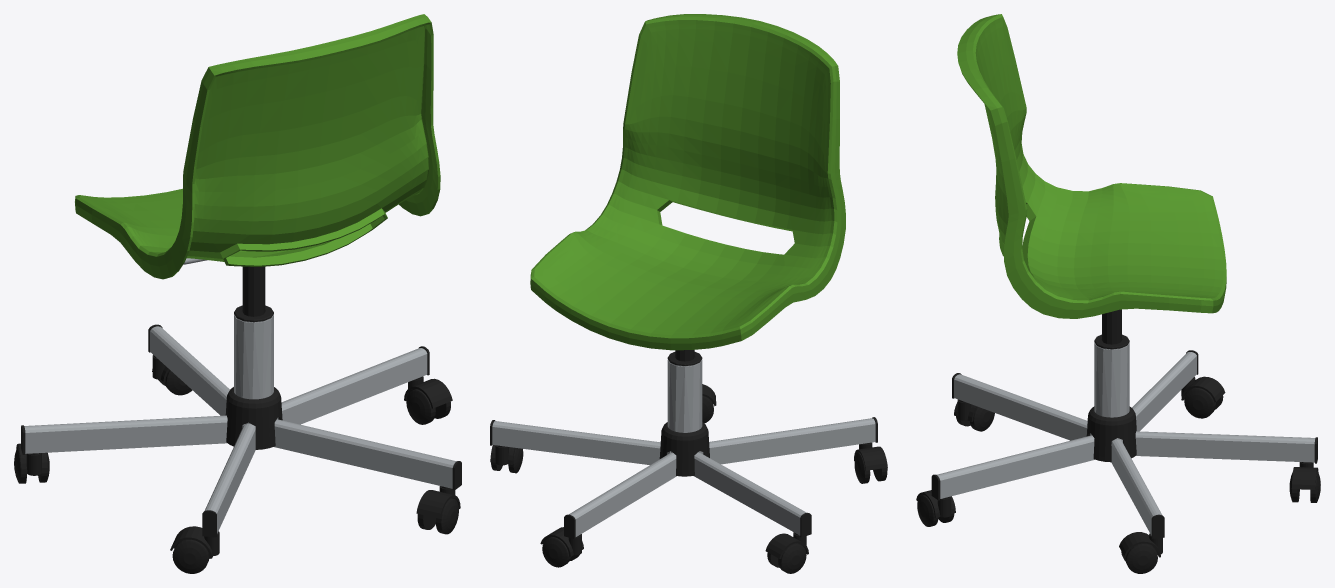
3 views of the same model, side by side, from view 1: azimuth 30°, elevation 25°; view 2: azimuth 150°, elevation 25°; view 3: azimuth 270°, elevation 25° (orthographic). The views are drawn at different scales.
Visible parts, largest first — view 1: Mesh2 Group2 SNILLE_IKEA1 Model, Mesh8 Group6 SNILLE_IKEA1 Model, Mesh7 Group5 SNILLE_IKEA1 Model, Mesh1 Group1 SNILLE_IKEA1 Model, Mesh3 Group3 SNILLE_IKEA1 Model, Mesh20 ROULETTE4 SNILLE_IKEA1 Model, Mesh12 ROULETTE2 SNILLE_IKEA1 Model, Mesh15 ROULETTE3 SNILLE_IKEA1 Model, Mesh16 ROULETTE3 SNILLE_IKEA1 Model, Mesh18 ROULETTE4 SNILLE_IKEA1 Model, Mesh9 ROULETTE1 SNILLE_IKEA1 Model, Mesh14 ROULETTE2 SNILLE_IKEA1 Model; view 2: Mesh2 Group2 SNILLE_IKEA1 Model, Mesh8 Group6 SNILLE_IKEA1 Model, Mesh7 Group5 SNILLE_IKEA1 Model, Mesh1 Group1 SNILLE_IKEA1 Model, Mesh23 ROULETTE5 SNILLE_IKEA1 Model, Mesh11 ROULETTE1 SNILLE_IKEA1 Model, Mesh18 ROULETTE4 SNILLE_IKEA1 Model, Mesh9 ROULETTE1 SNILLE_IKEA1 Model; view 3: Mesh2 Group2 SNILLE_IKEA1 Model, Mesh8 Group6 SNILLE_IKEA1 Model, Mesh7 Group5 SNILLE_IKEA1 Model, Mesh1 Group1 SNILLE_IKEA1 Model, Mesh3 Group3 SNILLE_IKEA1 Model, Mesh17 ROULETTE3 SNILLE_IKEA1 Model, Mesh10 ROULETTE1 SNILLE_IKEA1 Model, Mesh21 ROULETTE5 SNILLE_IKEA1 Model, Mesh15 ROULETTE3 SNILLE_IKEA1 Model, Mesh9 ROULETTE1 SNILLE_IKEA1 Model, Mesh12 ROULETTE2 SNILLE_IKEA1 Model.
Boxes of the visible parts, box(x1,y1,x2,y2) form: Mesh2 Group2 SNILLE_IKEA1 Model: box(75, 14, 440, 279); Mesh8 Group6 SNILLE_IKEA1 Model: box(21, 324, 461, 537); Mesh7 Group5 SNILLE_IKEA1 Model: box(234, 314, 273, 399); Mesh1 Group1 SNILLE_IKEA1 Model: box(225, 387, 282, 449); Mesh3 Group3 SNILLE_IKEA1 Model: box(234, 266, 273, 322); Mesh20 ROULETTE4 SNILLE_IKEA1 Model: box(172, 539, 209, 573); Mesh12 ROULETTE2 SNILLE_IKEA1 Model: box(416, 486, 460, 518); Mesh15 ROULETTE3 SNILLE_IKEA1 Model: box(404, 376, 452, 408); Mesh16 ROULETTE3 SNILLE_IKEA1 Model: box(406, 389, 435, 424); Mesh18 ROULETTE4 SNILLE_IKEA1 Model: box(170, 526, 219, 558); Mesh9 ROULETTE1 SNILLE_IKEA1 Model: box(16, 443, 47, 475); Mesh14 ROULETTE2 SNILLE_IKEA1 Model: box(435, 498, 458, 534); Mesh2 Group2 SNILLE_IKEA1 Model: box(530, 14, 845, 350); Mesh8 Group6 SNILLE_IKEA1 Model: box(490, 417, 877, 539); Mesh7 Group5 SNILLE_IKEA1 Model: box(667, 359, 702, 432); Mesh1 Group1 SNILLE_IKEA1 Model: box(659, 422, 709, 476); Mesh23 ROULETTE5 SNILLE_IKEA1 Model: box(542, 536, 570, 567); Mesh11 ROULETTE1 SNILLE_IKEA1 Model: box(778, 543, 806, 573); Mesh18 ROULETTE4 SNILLE_IKEA1 Model: box(854, 442, 887, 470); Mesh9 ROULETTE1 SNILLE_IKEA1 Model: box(765, 532, 808, 558); Mesh2 Group2 SNILLE_IKEA1 Model: box(957, 14, 1226, 318); Mesh8 Group6 SNILLE_IKEA1 Model: box(931, 350, 1317, 538); Mesh7 Group5 SNILLE_IKEA1 Model: box(1094, 342, 1129, 417); Mesh1 Group1 SNILLE_IKEA1 Model: box(1086, 406, 1136, 462); Mesh3 Group3 SNILLE_IKEA1 Model: box(1094, 309, 1129, 349); Mesh17 ROULETTE3 SNILLE_IKEA1 Model: box(1125, 543, 1157, 573); Mesh10 ROULETTE1 SNILLE_IKEA1 Model: box(1184, 387, 1215, 418); Mesh21 ROULETTE5 SNILLE_IKEA1 Model: box(1291, 462, 1318, 489); Mesh15 ROULETTE3 SNILLE_IKEA1 Model: box(1119, 532, 1162, 557); Mesh9 ROULETTE1 SNILLE_IKEA1 Model: box(1181, 376, 1225, 402); Mesh12 ROULETTE2 SNILLE_IKEA1 Model: box(916, 490, 955, 517).
Bounding box in the file's own units: 0.5907 × 0.7063 × 0.5934.
